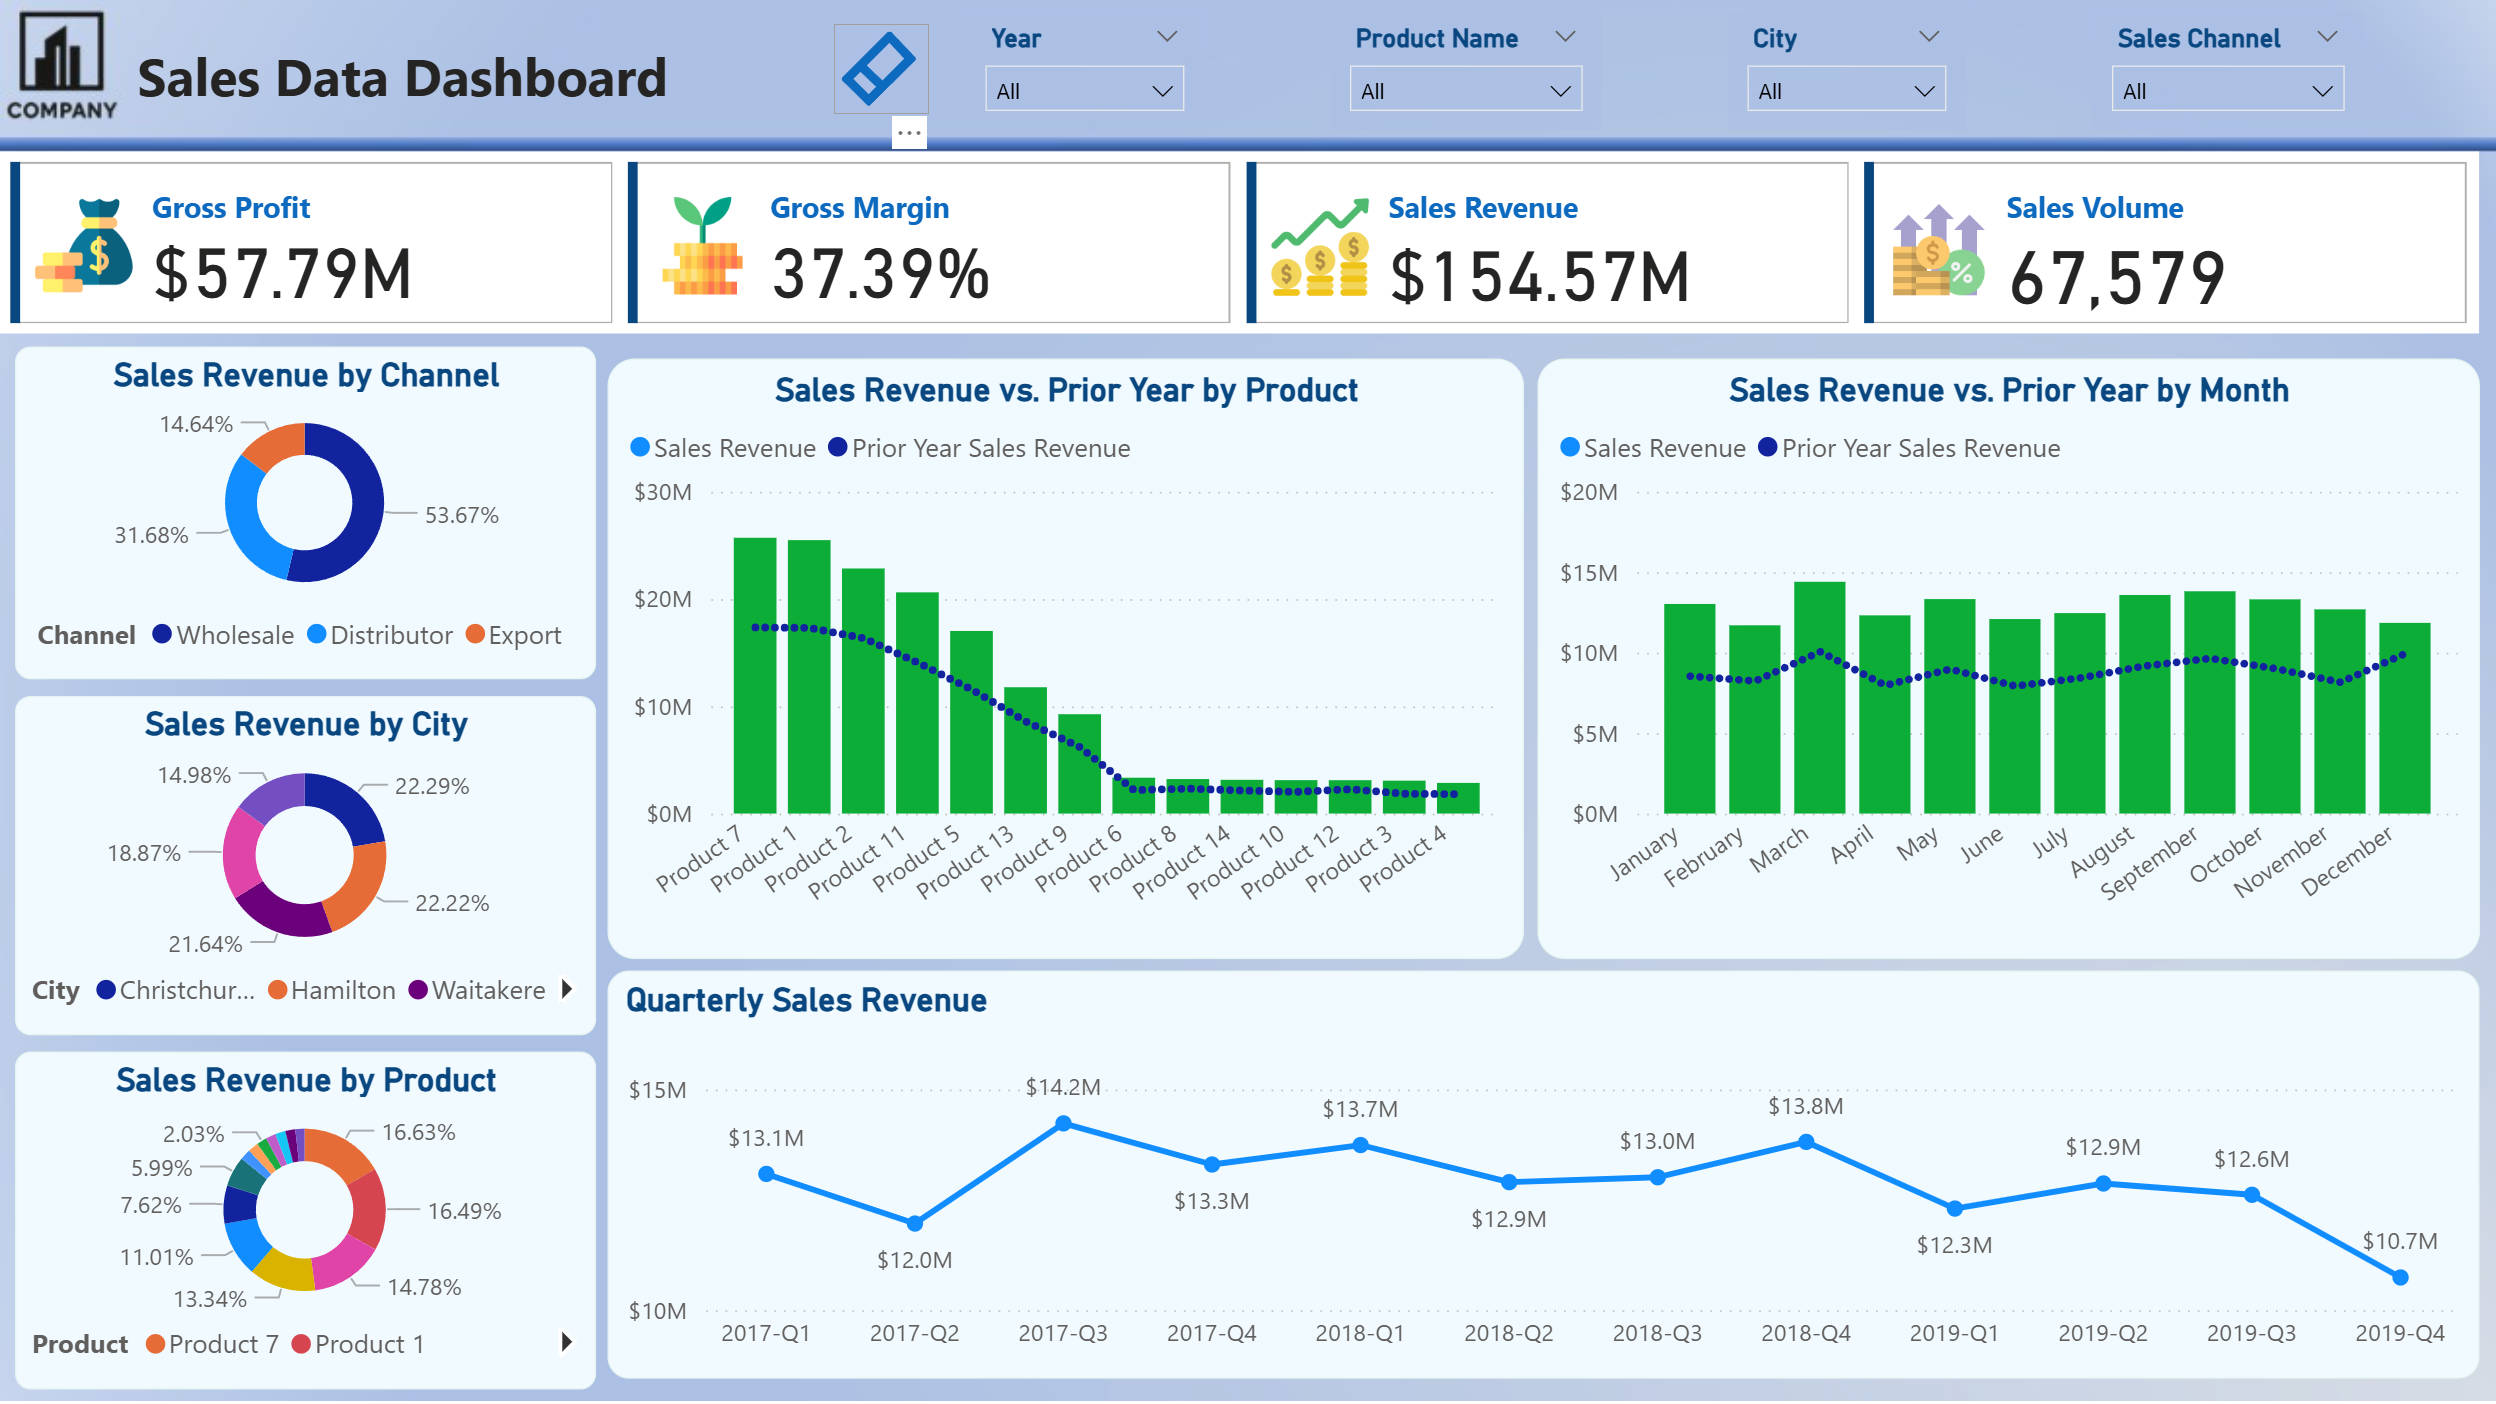

Layout of this report page (visuals, bound fields, positions):
{"tool":"powerbi","page":{"name":"Page 1","canvas":[1280,720],"ordinal":0},"visuals":[{"type":"slicer","fields":{"Values":["dDate.Year"]},"box":[495.5,7.3,121.8,56.4],"z":0},{"type":"slicer","fields":{"Values":["Products_Data.产品名称"]},"box":[682.1,7.3,139.1,60],"z":1000},{"type":"slicer","fields":{"Values":["Regions_Table.城市"]},"box":[886.1,7.3,121.8,60],"z":2000},{"type":"slicer","fields":{"Values":["Sales_Data.销售渠道"]},"box":[1072.7,7.3,139.1,60],"z":3000},{"type":"cardVisual","fields":{"Data":["DAX Table.Gross Profit","DAX Table.Gross Margin","DAX Table.Sales Revenue","DAX Table.Sales Volume"]},"box":[0,77.7,1271.5,93.1],"z":4000},{"type":"donutChart","title":"Sales Revenue by Channel","fields":{"Category":["Sales_Data.销售渠道"],"Y":["DAX Table.Sales Revenue"]},"box":[7.7,177.7,297.7,170.8],"z":5000},{"type":"donutChart","title":"Sales Revenue by Product ","fields":{"Y":["DAX Table.Sales Revenue"],"Category":["Products_Data.产品名称"]},"box":[7.7,539.2,297.7,173.1],"z":6000},{"type":"donutChart","fields":{"Y":["DAX Table.Sales Revenue"],"Category":["Regions_Table.城市"]},"box":[7.7,356.9,297.7,173.8],"z":7000},{"type":"lineChart","title":"Quarterly Sales Revenue","fields":{"Category":["dDate.Year-Quarter"],"Y":["DAX Table.Sales Revenue"]},"box":[311.5,497.7,960,209.2],"z":8000},{"type":"lineClusteredColumnComboChart","title":"Sales Revenue vs. Prior Year by Product","fields":{"Category":["Products_Data.产品名称"],"Y":["DAX Table.Sales Revenue"],"Y2":["DAX Table.Prior Year Sales Revenue"]},"box":[311.5,183.8,470,307.7],"z":9000},{"type":"lineClusteredColumnComboChart","title":"Sales Revenue vs. Prior Year by Month","fields":{"Y":["DAX Table.Sales Revenue"],"Y2":["DAX Table.Prior Year Sales Revenue"],"Category":["dDate.Month"]},"box":[788.5,183.8,483.1,307.7],"z":10000},{"type":"actionButton","box":[427.7,12.3,48.5,46.2],"z":11000},{"type":"textbox","box":[65.4,15.4,296.9,62.3],"z":12000}]}

Visuals, with their boxes in screenshot pixels (x1, y1, x2, y2), scaled from the page's 1280x720 canvas onto the 2496x1404 screenshot:
slicer - dDate.Year: bbox=(966, 14, 1204, 124)
slicer - Products_Data.产品名称: bbox=(1330, 14, 1601, 131)
slicer - Regions_Table.城市: bbox=(1728, 14, 1965, 131)
slicer - Sales_Data.销售渠道: bbox=(2092, 14, 2363, 131)
cardVisual - DAX Table.Gross Profit x DAX Table.Gross Margin: bbox=(0, 152, 2479, 333)
"Sales Revenue by Channel" donutChart: bbox=(15, 347, 596, 680)
"Sales Revenue by Product " donutChart: bbox=(15, 1051, 596, 1389)
donutChart - DAX Table.Sales Revenue x Regions_Table.城市: bbox=(15, 696, 596, 1035)
"Quarterly Sales Revenue" lineChart: bbox=(607, 971, 2479, 1378)
"Sales Revenue vs. Prior Year by Product" lineClusteredColumnComboChart: bbox=(607, 358, 1524, 958)
"Sales Revenue vs. Prior Year by Month" lineClusteredColumnComboChart: bbox=(1538, 358, 2480, 958)
actionButton: bbox=(834, 24, 929, 114)
textbox: bbox=(128, 30, 706, 152)
